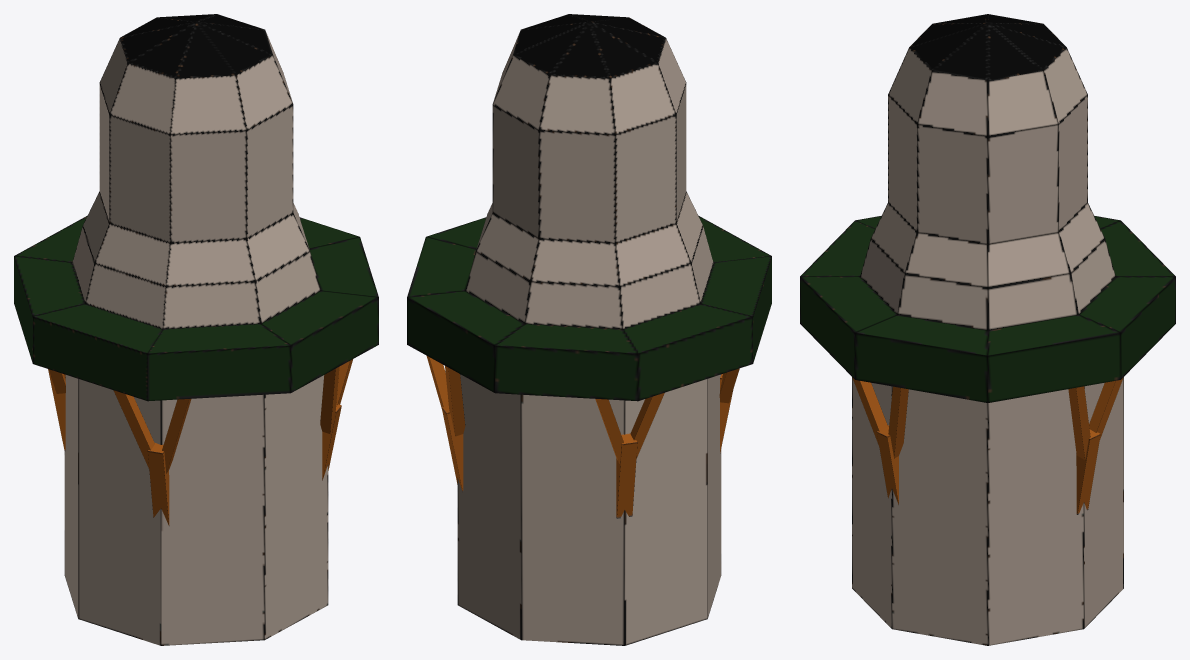
The model's file is MoinhoDeVentoCorpo.fbx.
3 views of the same model, side by side, from view 1: azimuth 30°, elevation 25°; view 2: azimuth 150°, elevation 25°; view 3: azimuth 270°, elevation 25° (orthographic).
Visible parts, largest first — view 1: Cenario; view 2: Cenario; view 3: Cenario.
Part boxes in pixels (x1,y1,x2,y2): Cenario: [14, 14, 378, 645]; Cenario: [407, 14, 771, 645]; Cenario: [800, 14, 1175, 645].
Size of the model in its own units: 741 by 1230 by 741.
